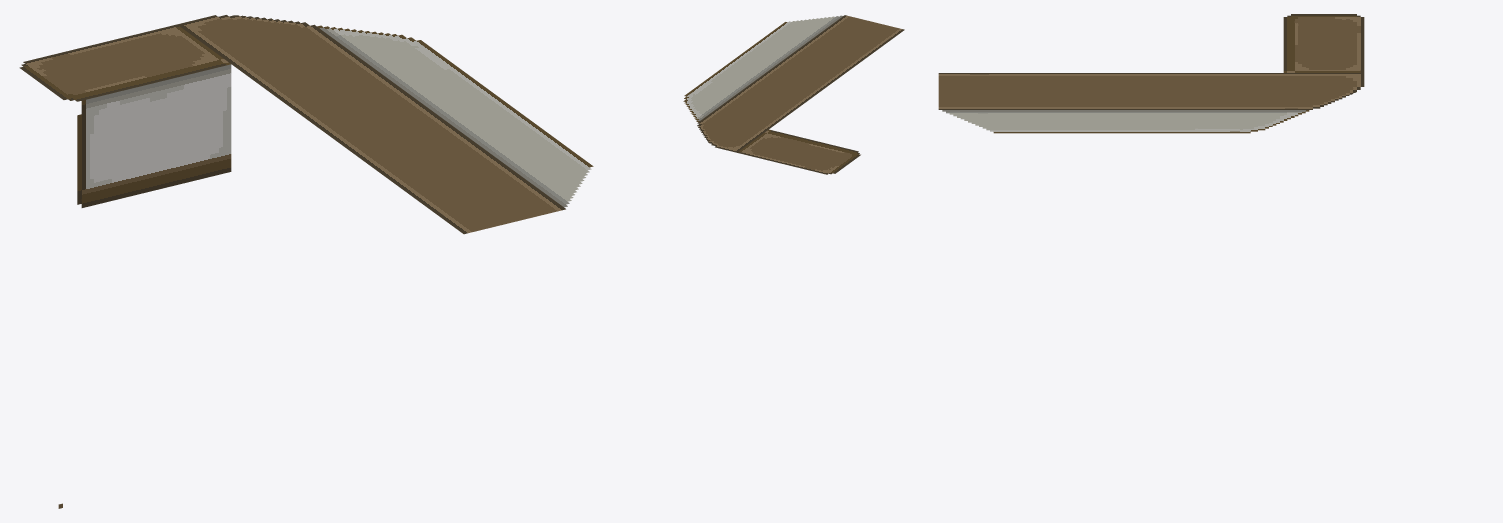
The model's file is counter.gltf.
3 renders of one model, left to right at view 1: azimuth 30°, elevation 25°; view 2: azimuth 150°, elevation 25°; view 3: azimuth 270°, elevation 25°, orthographic. The views are drawn at different scales.
Visible parts, largest first — view 1: counter-col; view 2: counter-col; view 3: counter-col.
Boxes of the visible parts, x1,y1,x2,y2 form: counter-col: (19, 15, 593, 234); counter-col: (683, 15, 904, 174); counter-col: (938, 14, 1364, 133).
Size of the model in its own units: 4.81 by 7.5 by 9.44.
Materials: 2 (2 with a texture image).
